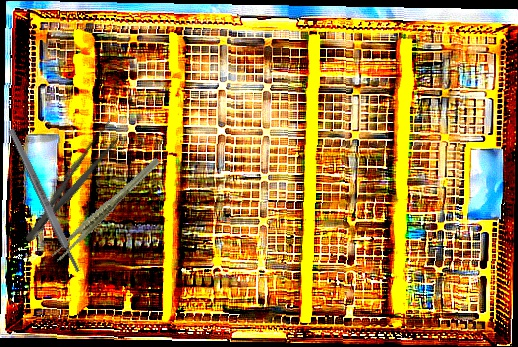Dressing Forceps: (18, 116, 127, 249)
Scalpel Handle: (7, 127, 82, 274)
Tissue Forceps: (36, 156, 176, 264)
